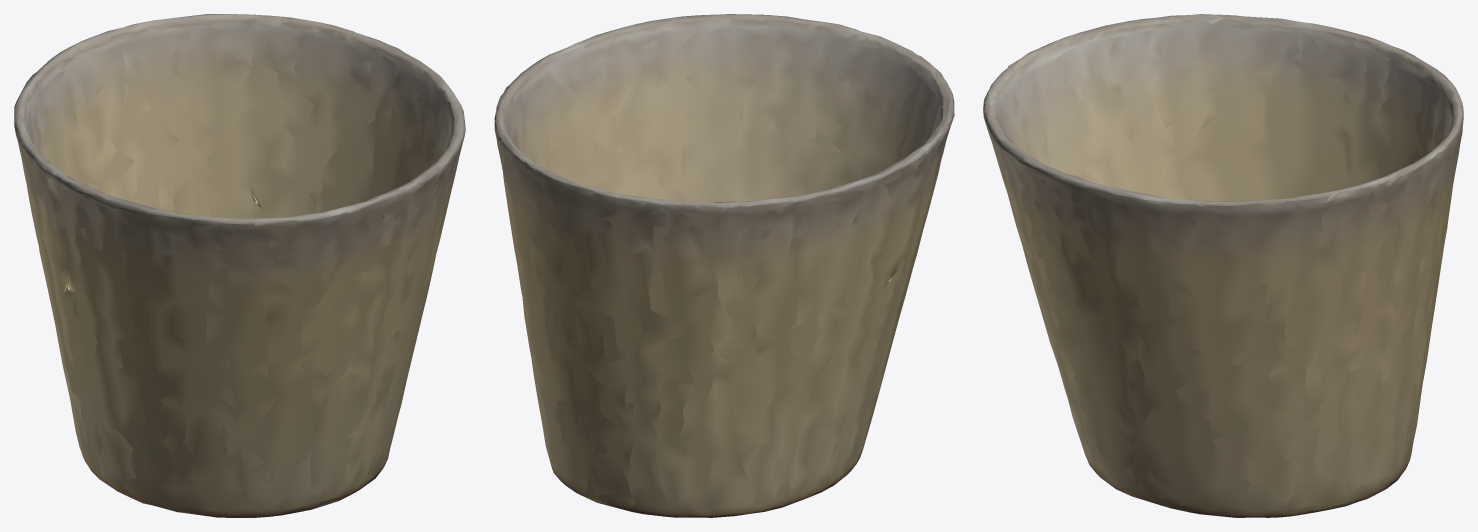
File: 0011_mask_012_glass_of_dark_liquid.glb
3 renders of one model, left to right at view 1: azimuth 30°, elevation 25°; view 2: azimuth 150°, elevation 25°; view 3: azimuth 270°, elevation 25°, orthographic.
Parts seen in each view (by area): view 1: mask_012_object; view 2: mask_012_object; view 3: mask_012_object.
Boxes of the visible parts, x1,y1,x2,y2 form: mask_012_object: (14,14,465,517); mask_012_object: (494,14,954,517); mask_012_object: (983,14,1463,517).
Bounding box in the file's own units: 0.1719 × 0.1458 × 0.1831.
